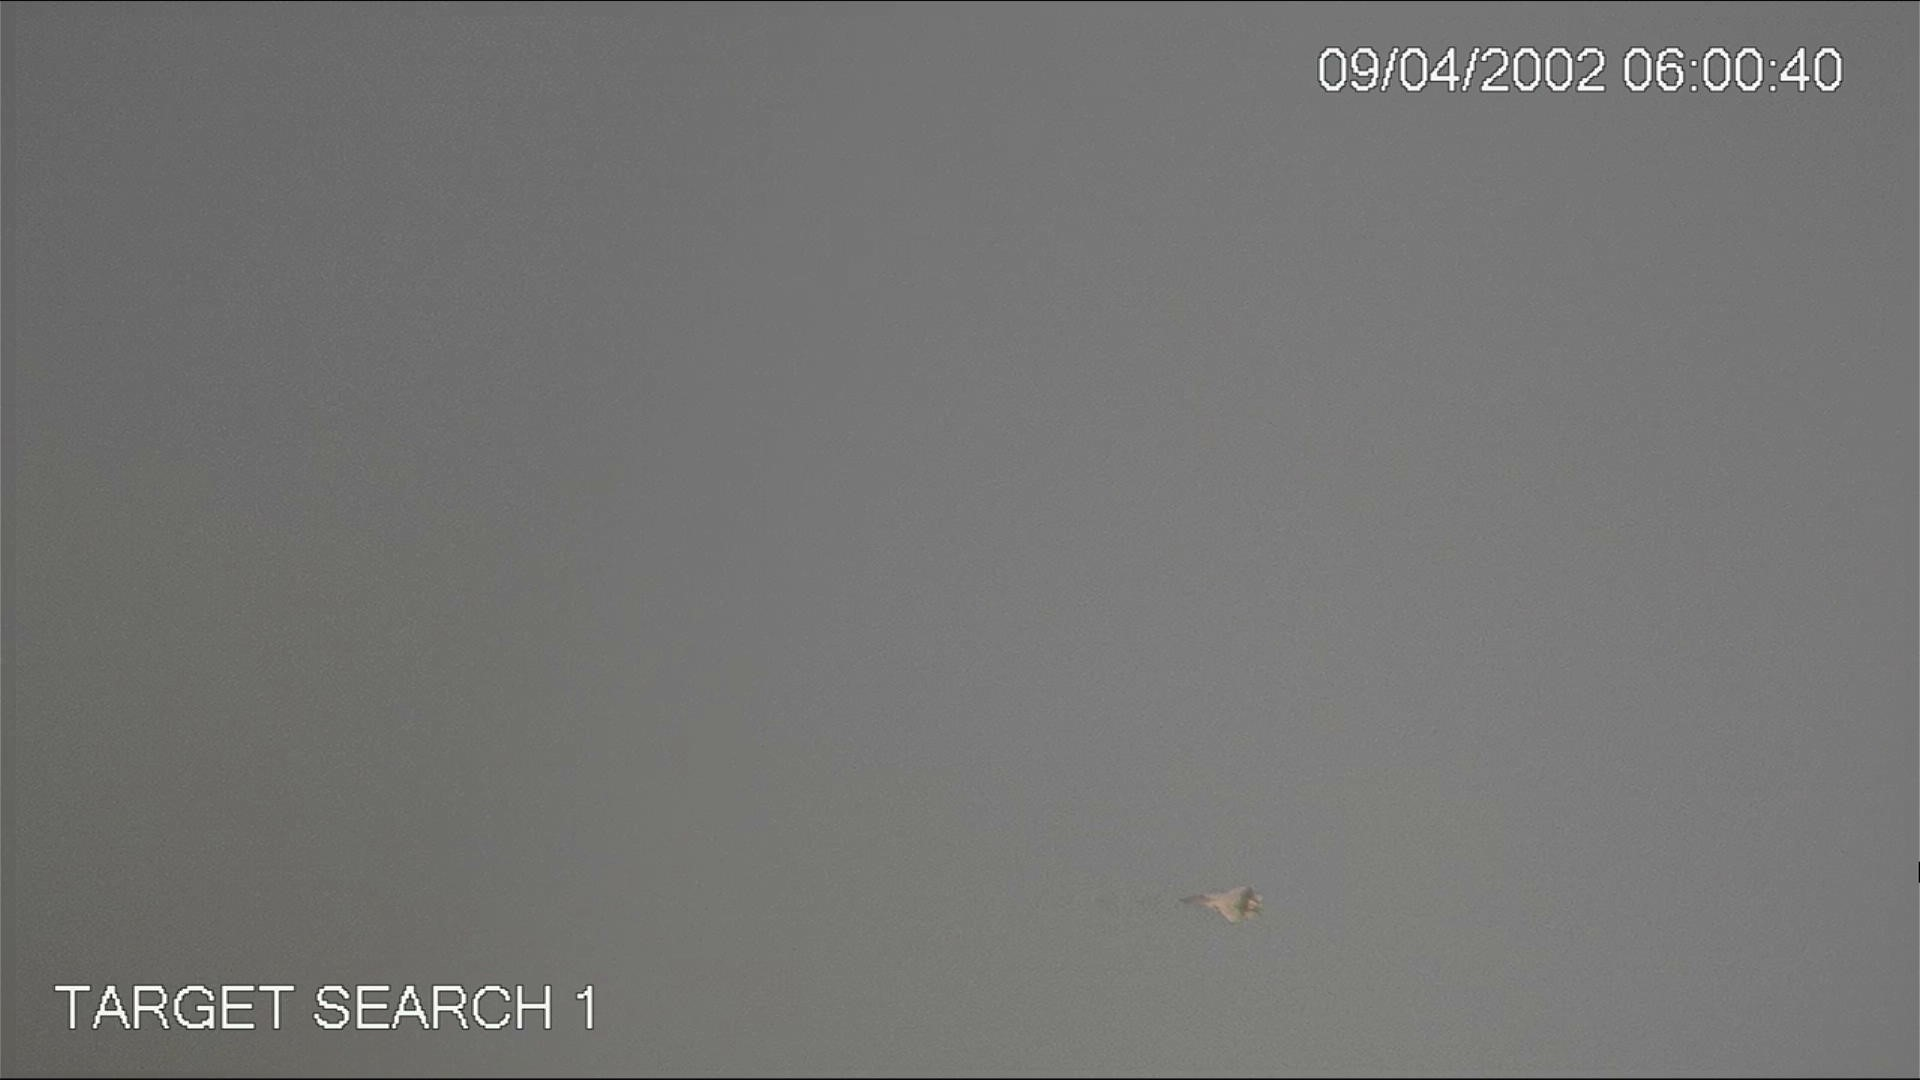SU_30: (1182, 885, 1265, 920)
